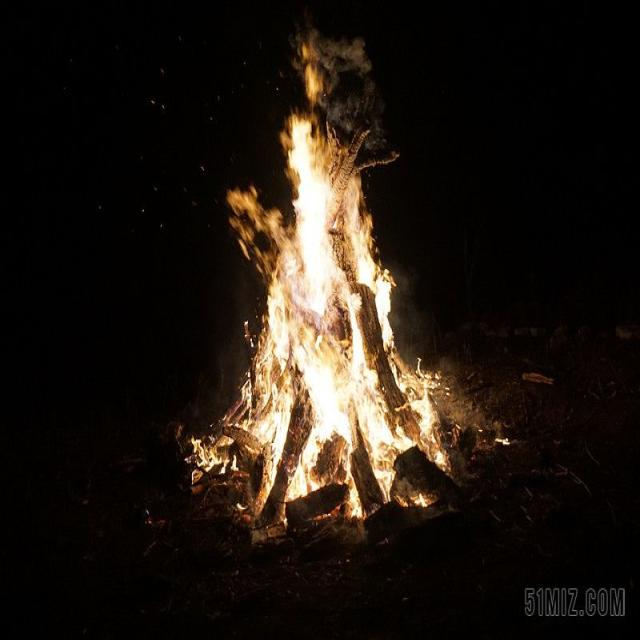fire: (201, 44, 451, 530)
